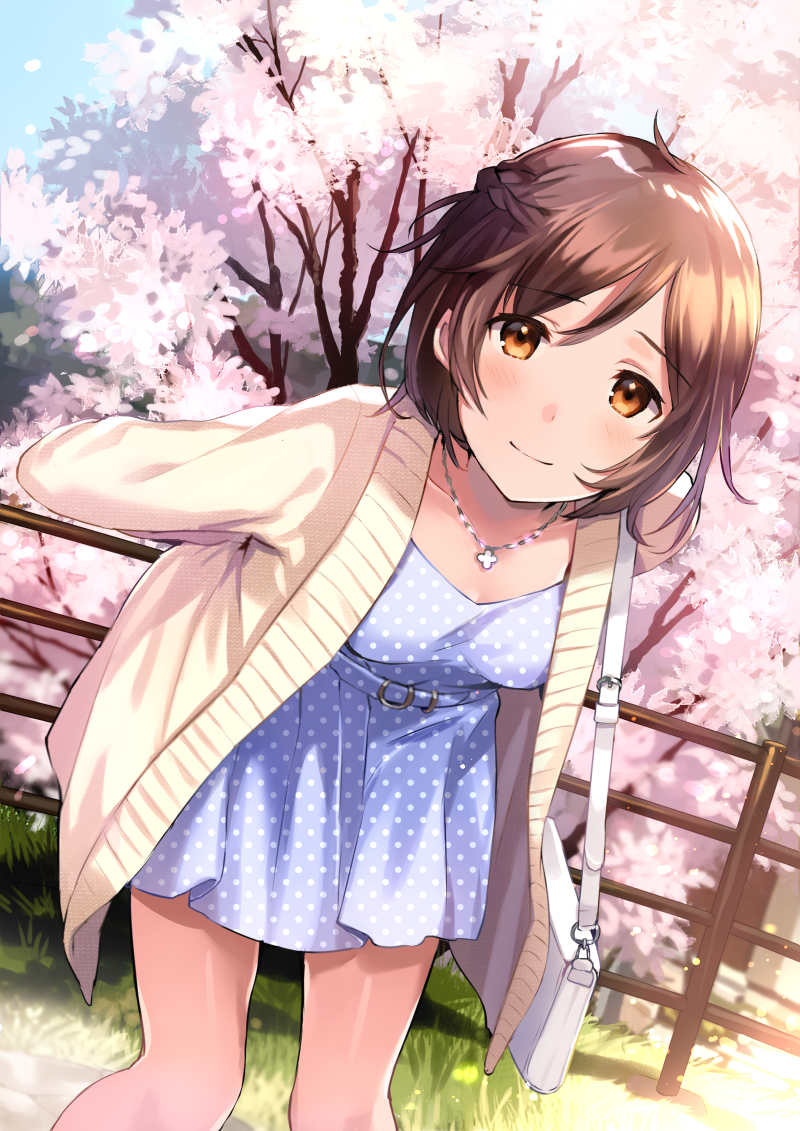纸片人正脸: (401, 119, 754, 521)
